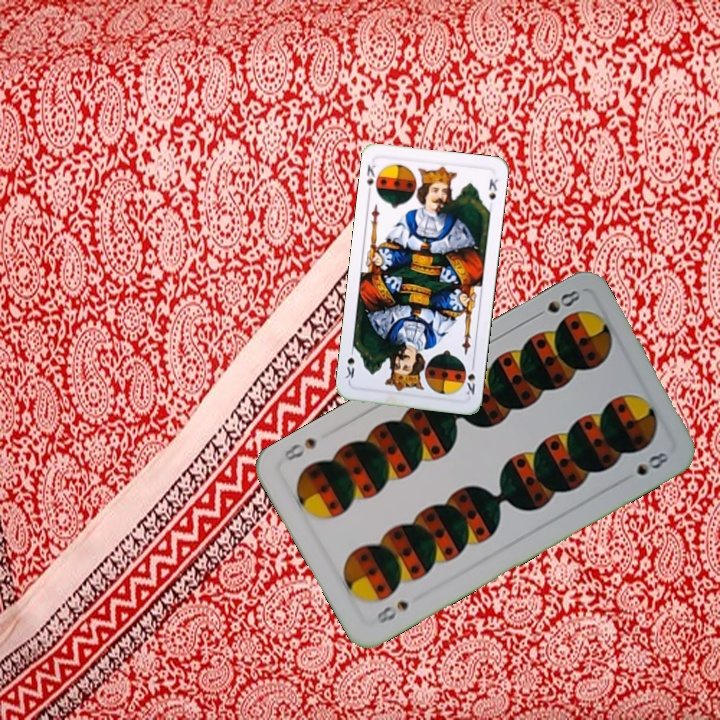S8: (528, 286, 584, 322), (372, 596, 411, 627)
SK: (462, 358, 478, 399), (362, 160, 378, 198)
